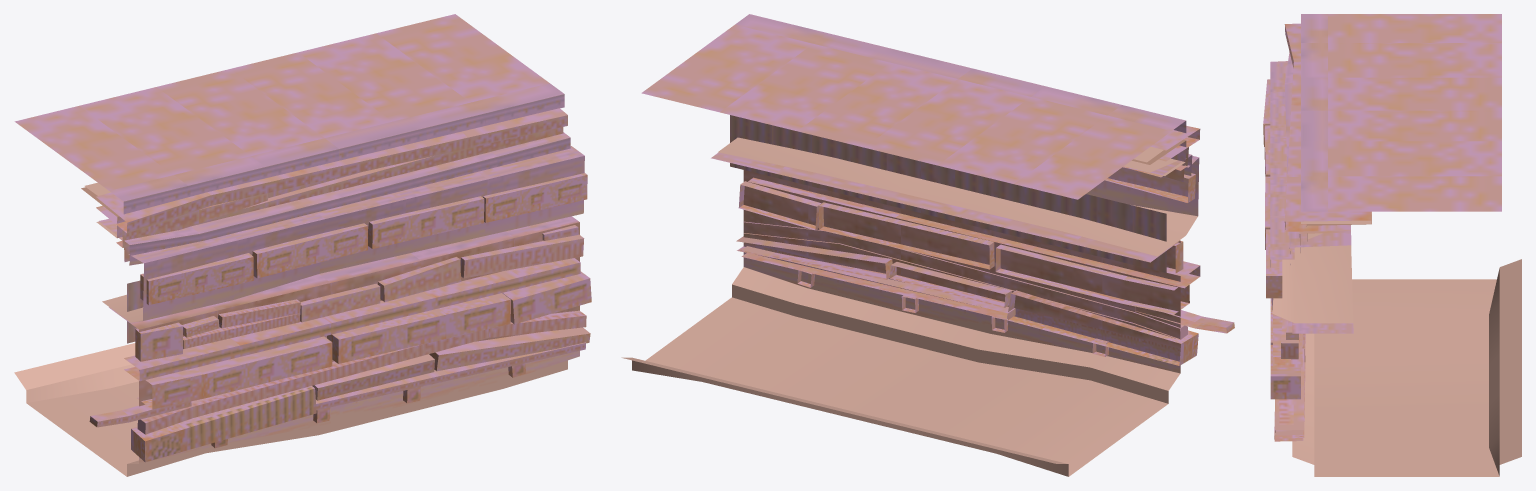
Rendered from MainMenu_3DLoopBridge.fbx.
The picture shows the model from 3 angles, left to right: view 1: azimuth 30°, elevation 25°; view 2: azimuth 150°, elevation 25°; view 3: azimuth 270°, elevation 25°; orthographic projection. The views are drawn at different scales.
Parts seen in each view (by area): view 1: UpperBridge; view 2: UpperBridge; view 3: UpperBridge.
Boxes of the visible parts, x1=… form: UpperBridge: x1=14, y1=14, x2=591, y2=476; UpperBridge: x1=621, y1=14, x2=1234, y2=476; UpperBridge: x1=1263, y1=14, x2=1521, y2=476.
Bounding box in the file's own units: 36.8 × 20.65 × 18.26.
